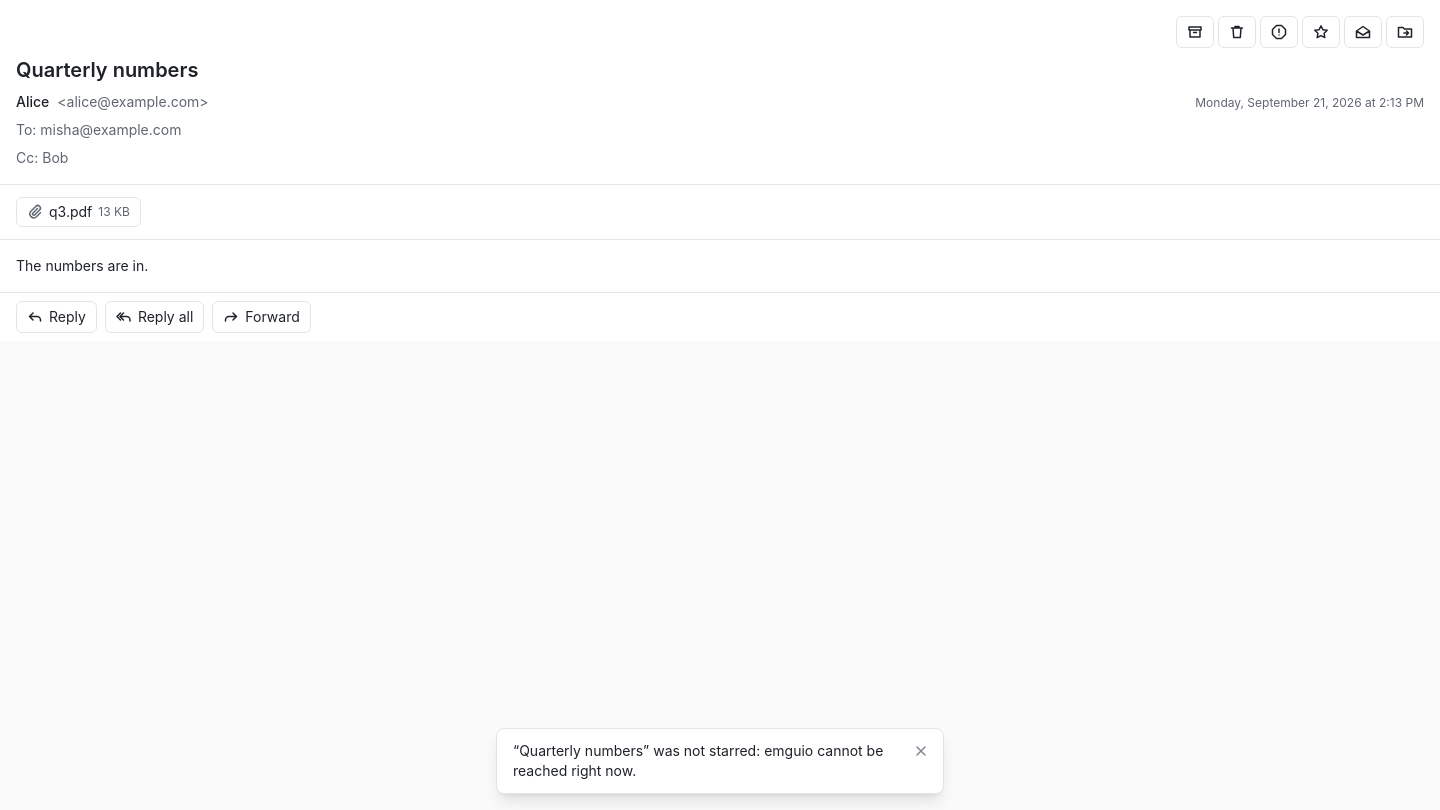
Test: the reading pane › says so when a move it already drew is not taken
Click the button named "Archive". click: click(1195, 32)
box: [1176,16,1214,48]
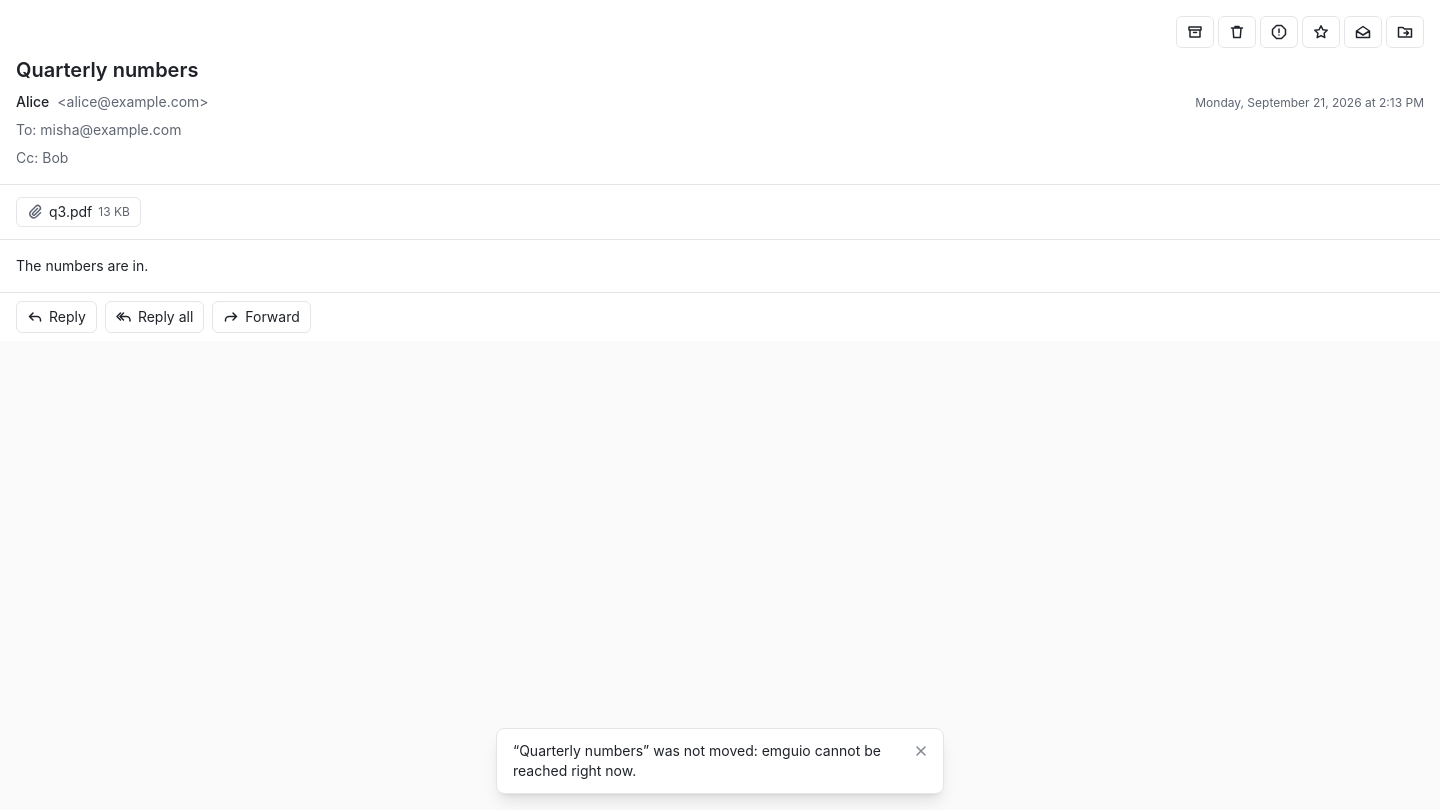
Expected: the text "“Quarterly numbers” was not moved: emguio cannot be reached right now." is shown, [513,741,899,781]
